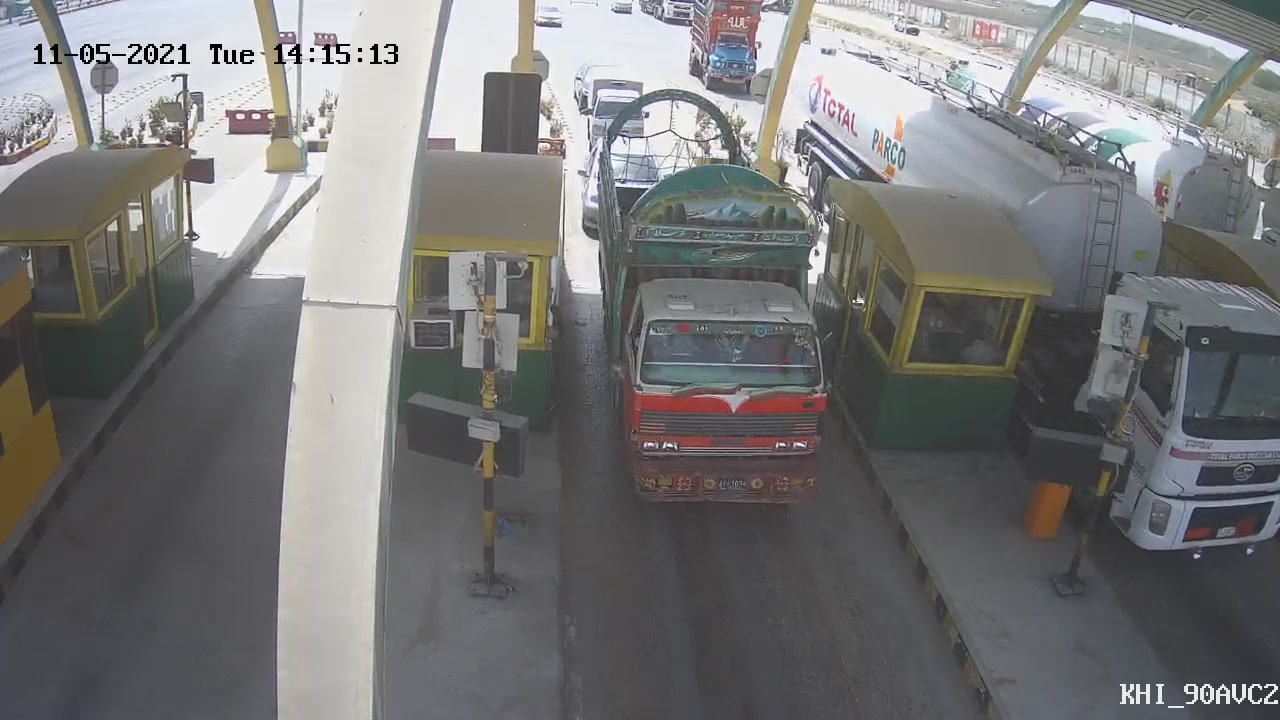F5: (587, 86, 836, 510)
